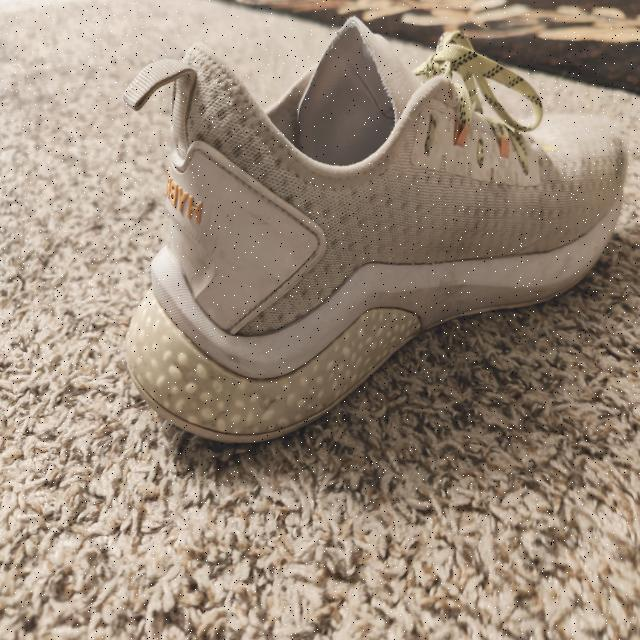white shoes: (128, 30, 622, 440)
